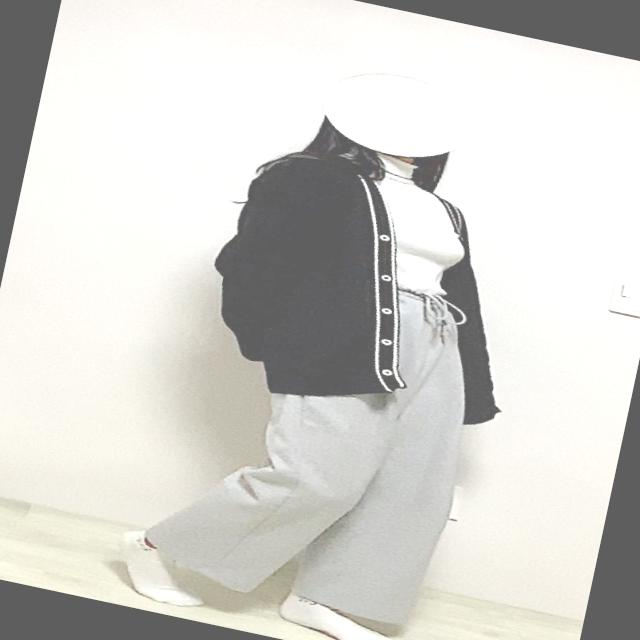cardigan: (183, 132, 558, 445)
trainingpants: (137, 242, 500, 638)
